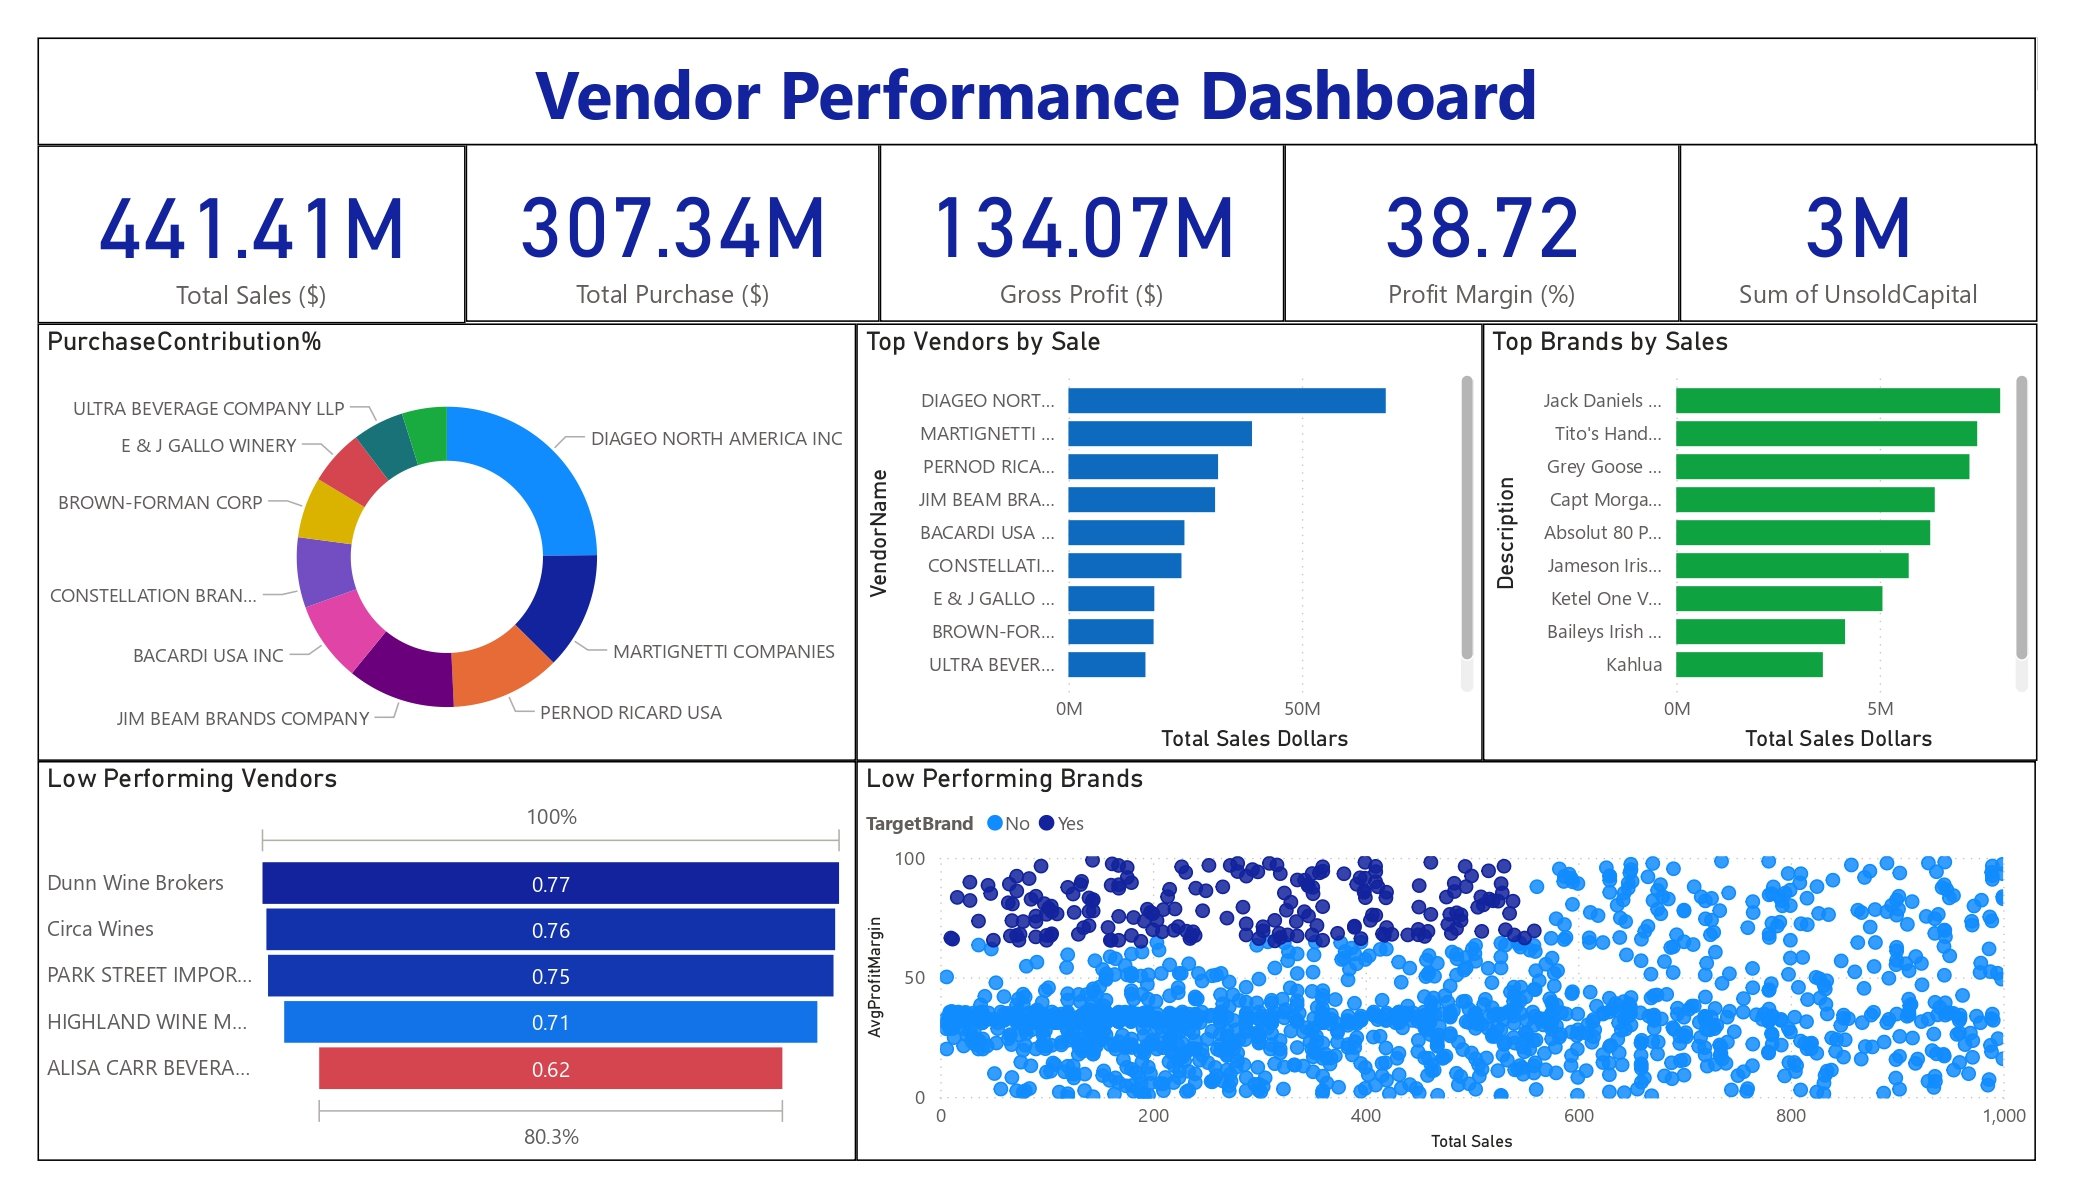

The page's visual inventory and layout, read from the dashboard file:
{"tool":"powerbi","page":{"name":"Page 1","canvas":[1280,720],"ordinal":0},"visuals":[{"type":"card","fields":{"Values":["Sum(vendor_sales_summary.TotalSalesDollars)"]},"box":[0,68.6,274.3,114.3],"z":0},{"type":"card","fields":{"Values":["Sum(vendor_sales_summary.TotalPurchaseDollars)"]},"box":[274.2,68.3,264.8,113.9],"z":1},{"type":"card","fields":{"Values":["Sum(vendor_sales_summary.GrossProfit)"]},"box":[539,68.3,259.3,113.9],"z":2},{"type":"card","fields":{"Values":["Avg(vendor_sales_summary.ProfitMargin)"]},"box":[798.3,68.3,252.5,113.9],"z":3},{"type":"card","fields":{"Values":["Sum(vendor_sales_summary.UnsoldCapital)"]},"box":[1050.8,68.3,229.2,113.9],"z":4},{"type":"textbox","box":[0,0,1278.9,68.6],"z":5},{"type":"donutChart","title":"PurchaseContribution%","fields":{"Category":["PurchaseContribution.VendorName"],"Y":["Sum(PurchaseContribution.PurchaseContribution%)"]},"box":[0,182.9,524.5,279.7],"z":6},{"type":"barChart","title":"Top Vendors by Sale","fields":{"Category":["vendor_sales_summary.VendorName"],"Y":["Sum(vendor_sales_summary.TotalSalesDollars)"]},"box":[524.5,182.9,400.8,279.7],"z":7},{"type":"barChart","title":"Top Brands by Sales","fields":{"Y":["Sum(vendor_sales_summary.TotalSalesDollars)"],"Category":["vendor_sales_summary.Description"]},"box":[925.2,182.9,355,279.7],"z":8},{"type":"funnel","title":"Low Performing Vendors","fields":{"Y":["Avg(LowTurnoverVendor.AvgStockTurnover)"],"Category":["LowTurnoverVendor.VendorName"]},"box":[0,462.6,524.5,256.9],"z":9},{"type":"scatterChart","title":"Low Performing Brands","fields":{"X":["Sum(BrandPerformance.TotalSales)"],"Category":["BrandPerformance.Description"],"Series":["BrandPerformance.TargetBrand"],"Y":["Sum(BrandPerformance.AvgProfitMargin)"]},"box":[524.5,462.6,754.4,256.9],"z":10}]}

Visuals, with their boxes in screenshot pixels (x1, y1, x2, y2):
card - Sum(vendor_sales_summary.TotalSalesDollars): bbox=[43, 144, 466, 320]
card - Sum(vendor_sales_summary.TotalPurchaseDollars): bbox=[466, 143, 874, 319]
card - Sum(vendor_sales_summary.GrossProfit): bbox=[874, 143, 1274, 319]
card - Avg(vendor_sales_summary.ProfitMargin): bbox=[1274, 143, 1664, 319]
card - Sum(vendor_sales_summary.UnsoldCapital): bbox=[1664, 143, 2017, 319]
textbox: bbox=[43, 38, 2015, 144]
"PurchaseContribution%" donutChart: bbox=[43, 320, 852, 751]
"Top Vendors by Sale" barChart: bbox=[852, 320, 1470, 751]
"Top Brands by Sales" barChart: bbox=[1470, 320, 2017, 751]
"Low Performing Vendors" funnel: bbox=[43, 751, 852, 1147]
"Low Performing Brands" scatterChart: bbox=[852, 751, 2015, 1147]
